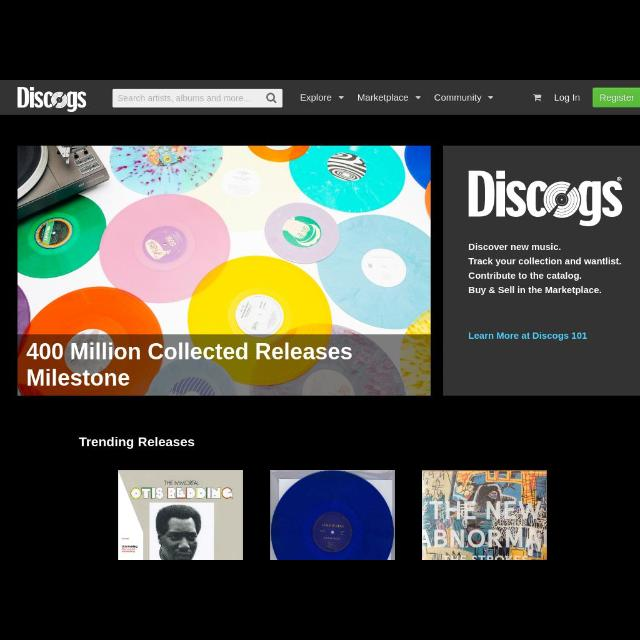icon: (266, 92, 278, 104), (534, 92, 542, 101), (486, 96, 494, 100), (415, 95, 421, 99), (338, 95, 346, 98)
image: (18, 146, 430, 396), (422, 470, 548, 558), (271, 469, 395, 558), (119, 471, 244, 559), (468, 168, 624, 226), (18, 86, 86, 112)
input: (113, 89, 283, 108)
spinner: (357, 90, 423, 108), (434, 90, 494, 108), (298, 91, 348, 107)
text: (470, 242, 620, 296), (118, 94, 250, 105), (78, 436, 195, 446), (467, 332, 587, 340), (358, 93, 408, 103), (434, 94, 482, 104), (299, 91, 331, 103), (552, 93, 582, 103), (600, 94, 634, 102)
textbutton: (592, 86, 640, 108)
toolbar: (1, 81, 639, 113)
